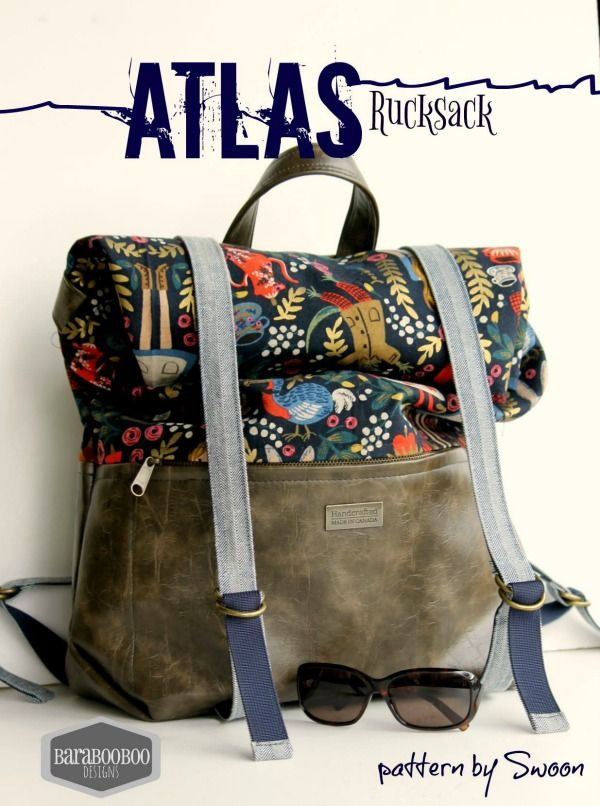cuero: (63, 140, 507, 719)
